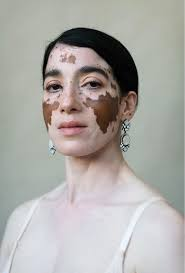vitiligo: (35, 25, 160, 180)
